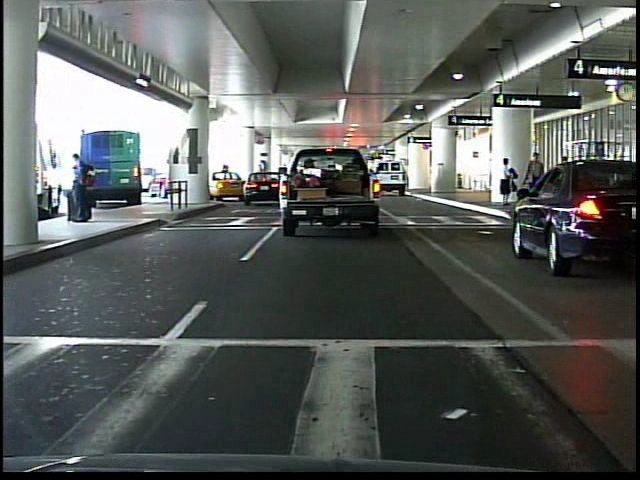person: (66, 148, 99, 233), (522, 148, 548, 211), (495, 155, 519, 209)
